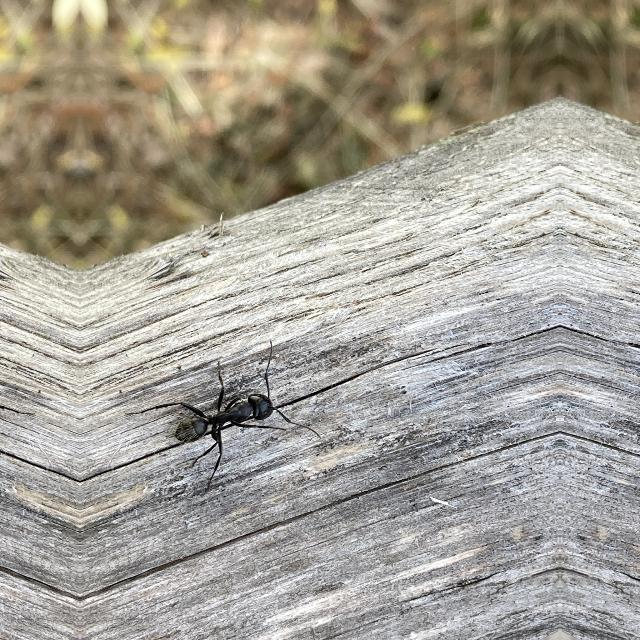Camponotus: (169, 380, 293, 456)
